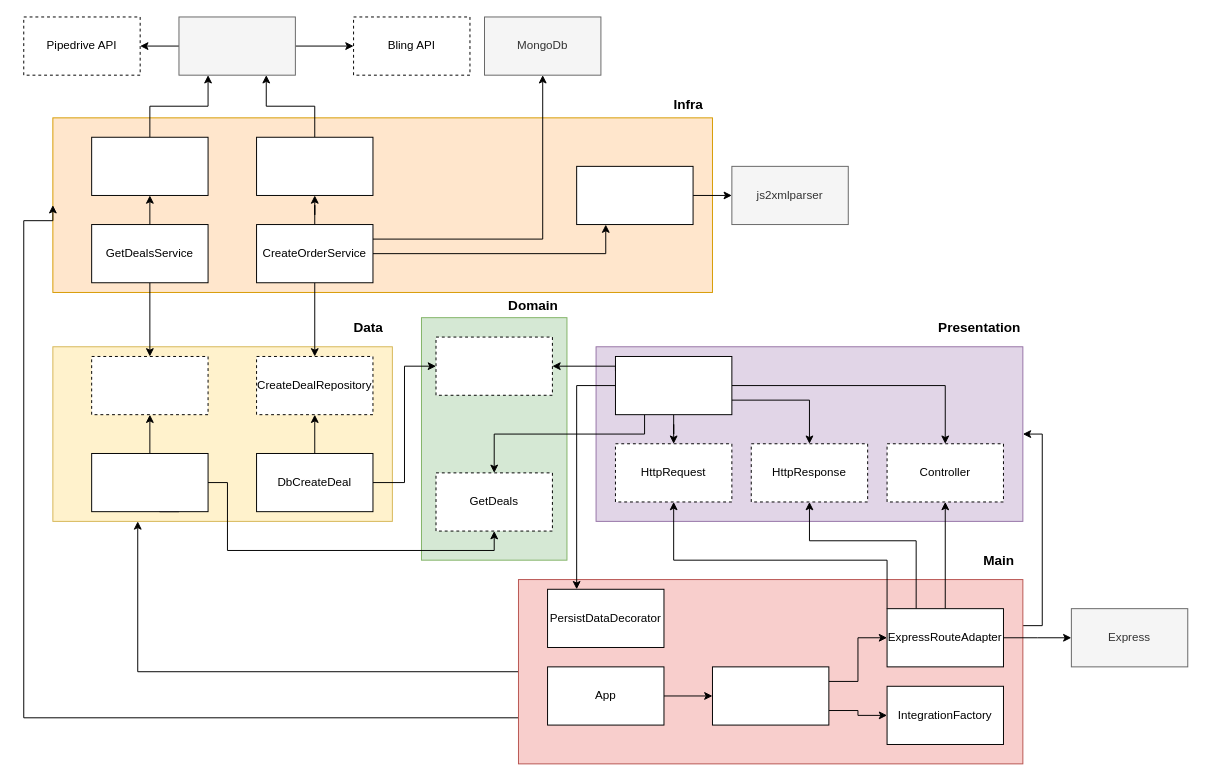
The diagram is 1205 pixels wide and 781 high, and some of its shapes have lost their labels. Each missing label, with the centre of its shape:
"Axios" belongs at point 236,45.
"BlingClient" belongs at point 314,165.
"BuildOrderXml" belongs at point 634,195.
"CreateDeal" belongs at point 493,365.
"DbGetDeals" belongs at point 149,482.
"GetDealsRepository" belongs at point 149,385.
"IntegrationController" belongs at point 673,385.
"PipedriveClient" belongs at point 149,165.
"Routes" belongs at point 770,695.
